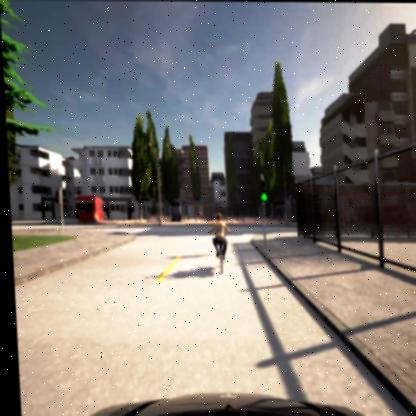bike: (205, 211, 230, 274)
